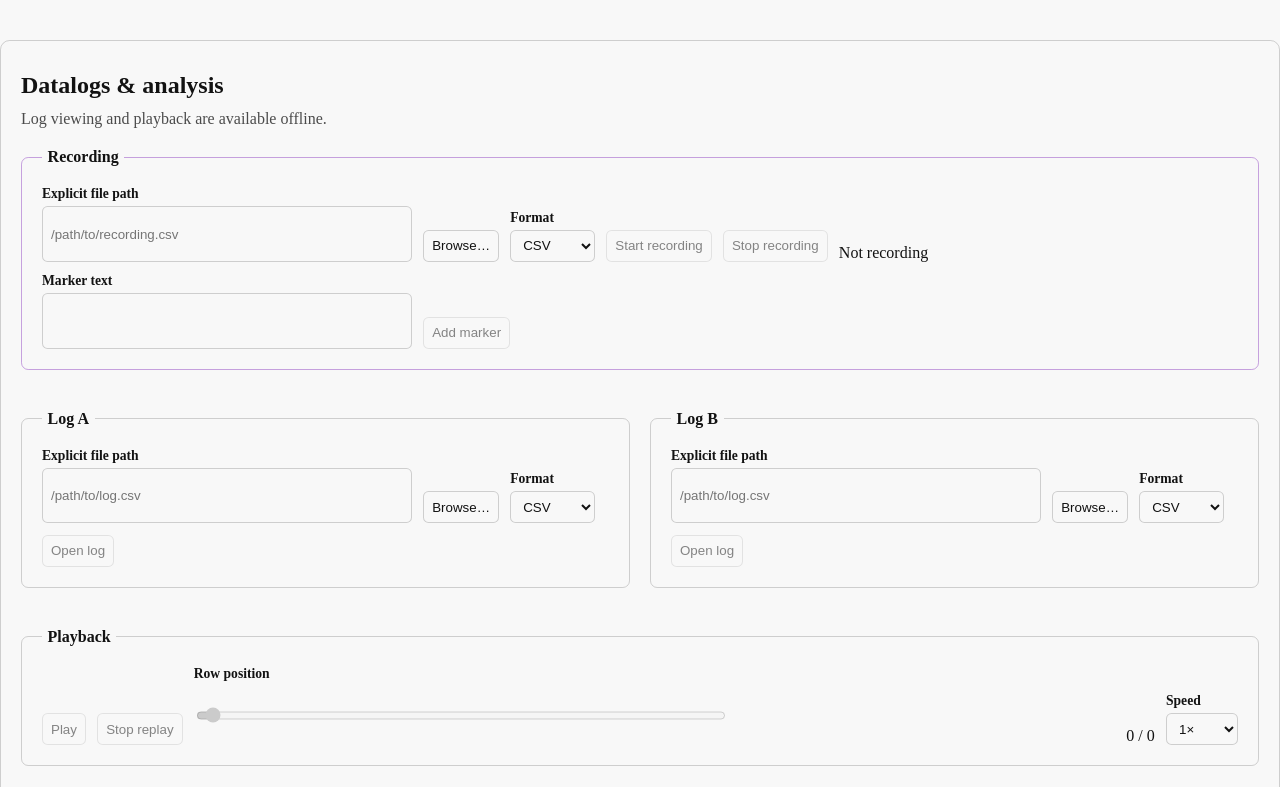
DatalogPanel › Browse buttons (native file dialogs) › Log B Browse fills only Log B's path input
Click the 3rd button "Browse…": (1090, 507) [1052,491,1128,523]
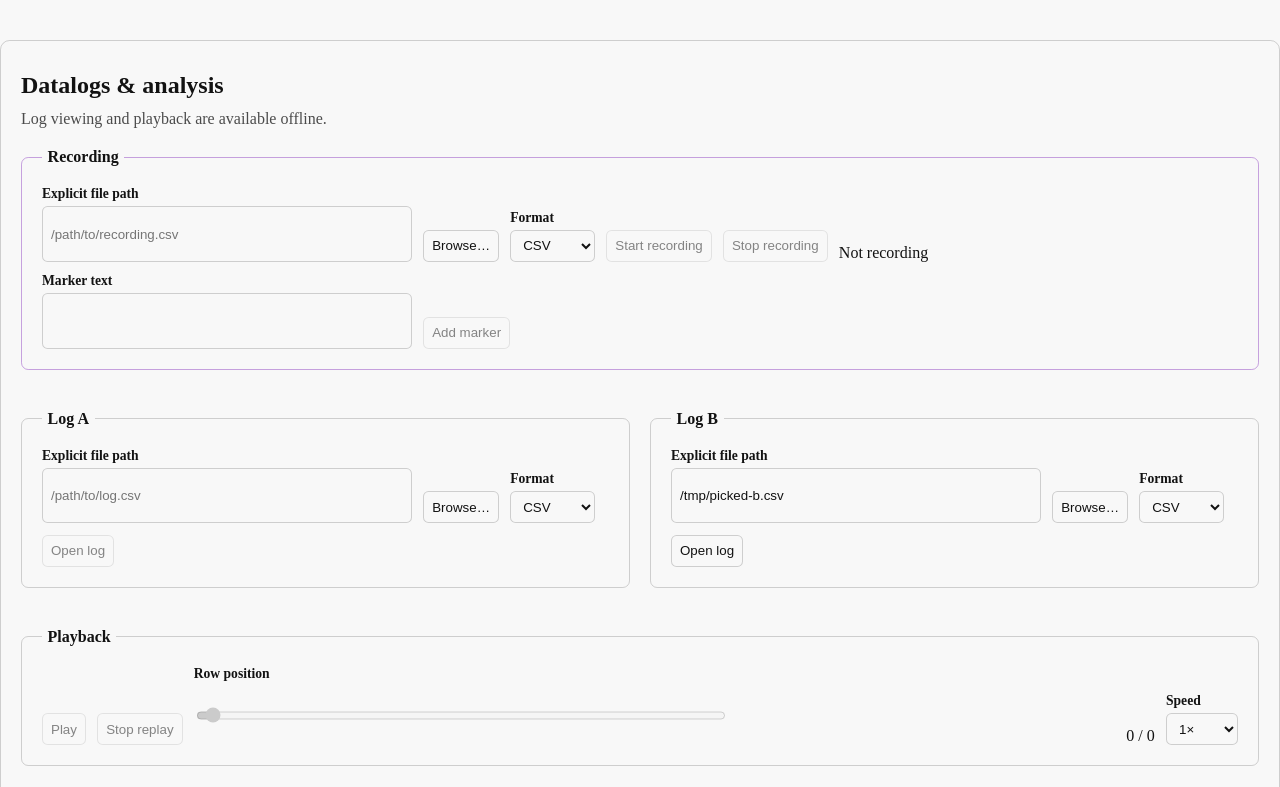
Expected: the 2nd field with placeholder "/path/to/log.csv" is empty, [42,468,412,523]
Result: the 3rd field with placeholder "/path/to/log.csv" holds "/tmp/picked-b.csv" at [671,468,1041,523]
